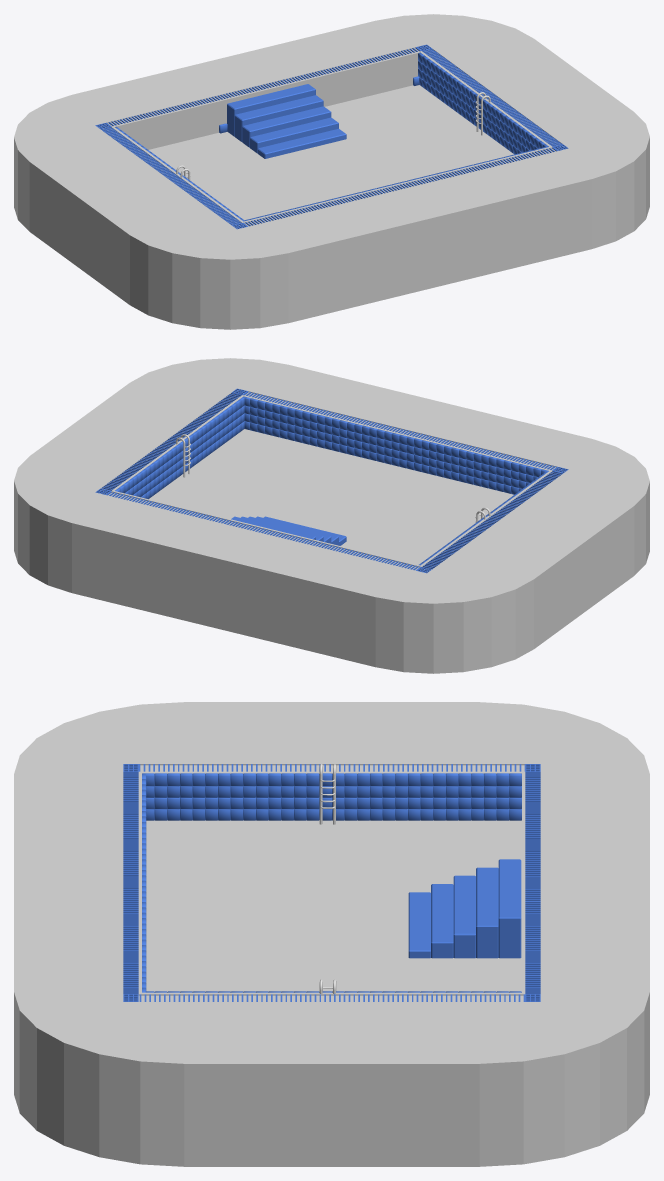
File: Kleines_Quadratisches_Schwimmbecken.fbx
3 renders of one model, top to bottom at view 1: azimuth 30°, elevation 25°; view 2: azimuth 150°, elevation 25°; view 3: azimuth 270°, elevation 25°, orthographic. The views are drawn at different scales.
Parts seen in each view (by area): view 1: Cube.220; view 2: Cube.220; view 3: Cube.220.
Boxes of the visible parts, x1,y1,x2,y2 form: Cube.220: (14,14,649,329); Cube.220: (14,358,649,673); Cube.220: (14,702,649,1166).
Size of the model in its own units: 1507 by 221 by 1119.
